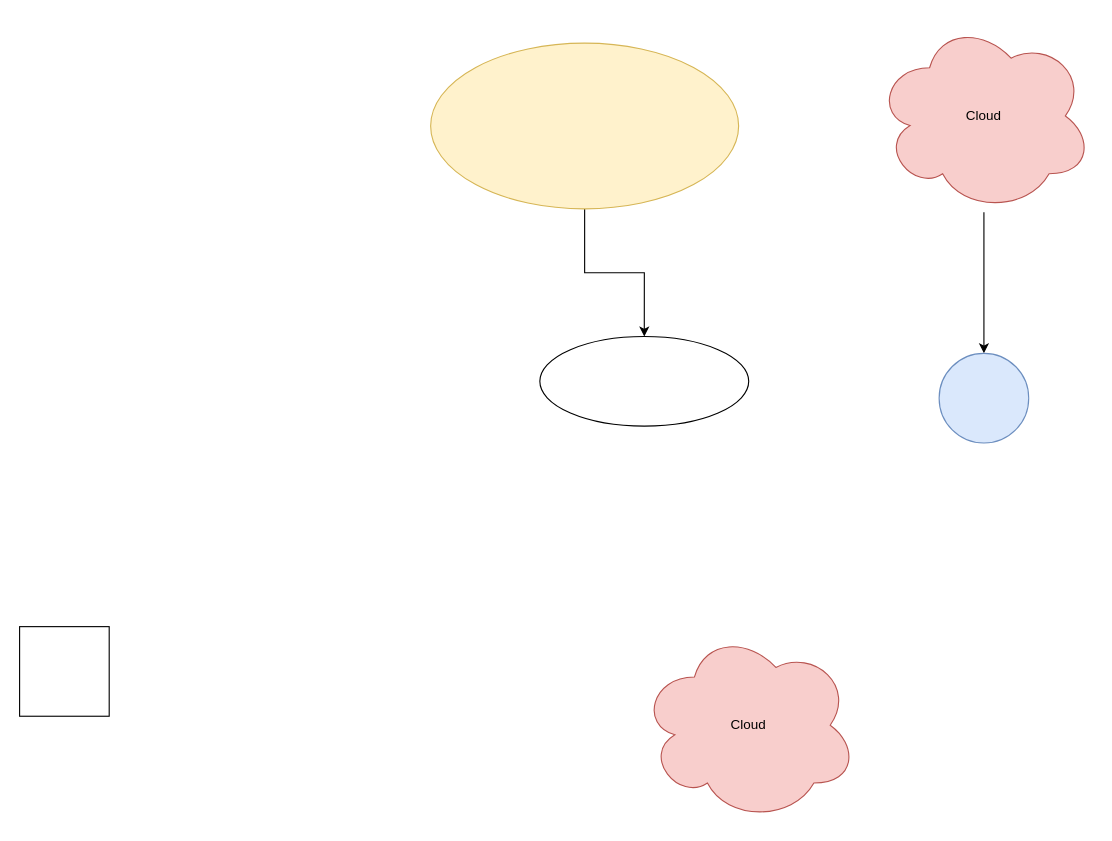
Some shapes in this 1112 by 841 pixel diagram are drawn without their labels. The centre of each missing label's shape, as x and y in pixels:
"Hello" belongs at pixel 584 125.
"rain" belongs at pixel 983 397.
